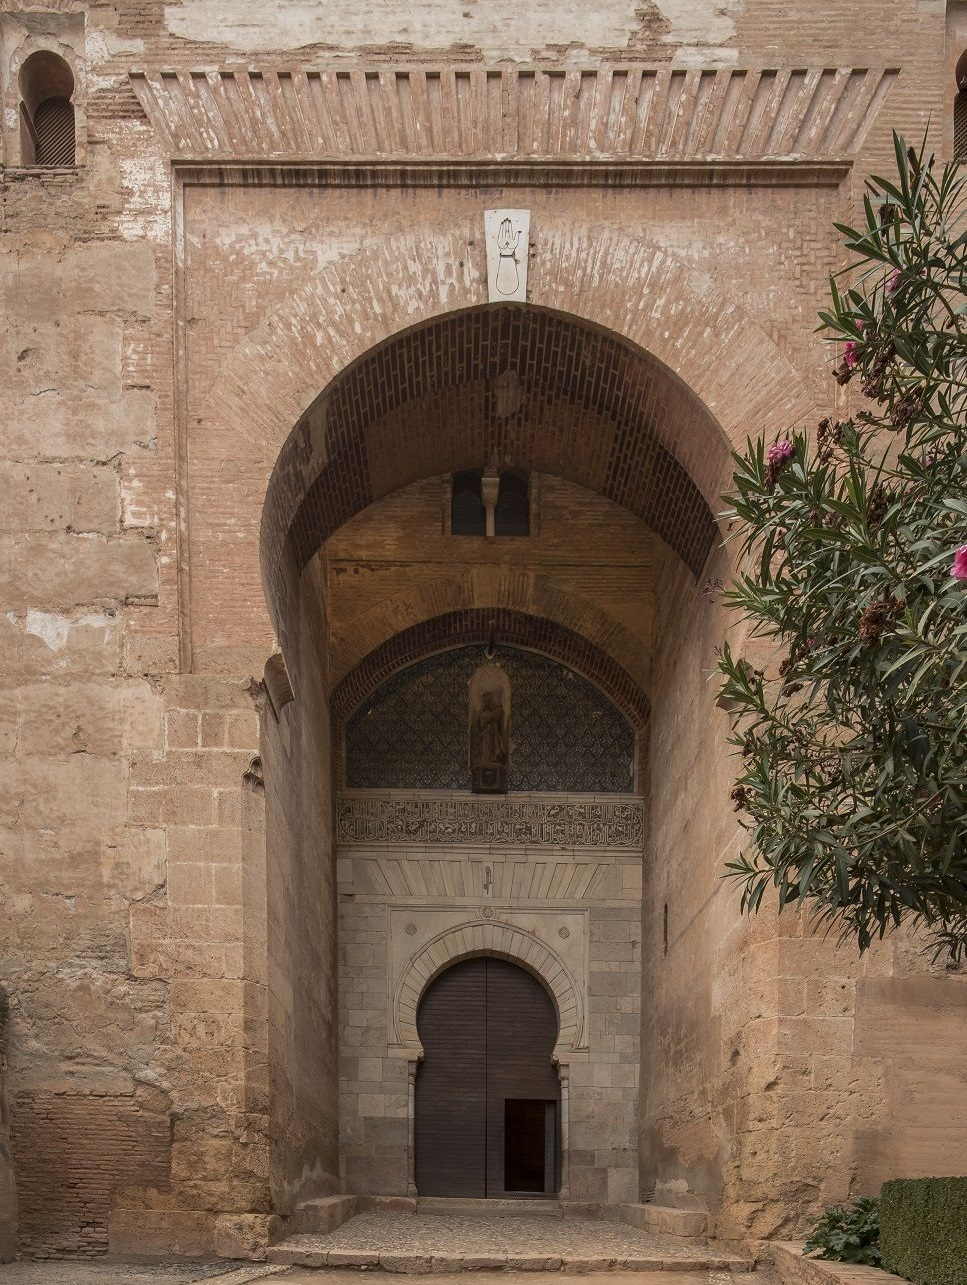arco-herradura: (245, 295, 758, 700), (406, 940, 575, 1080), (12, 45, 83, 112)
dintel-adovelado: (125, 62, 906, 175), (358, 850, 617, 907)
